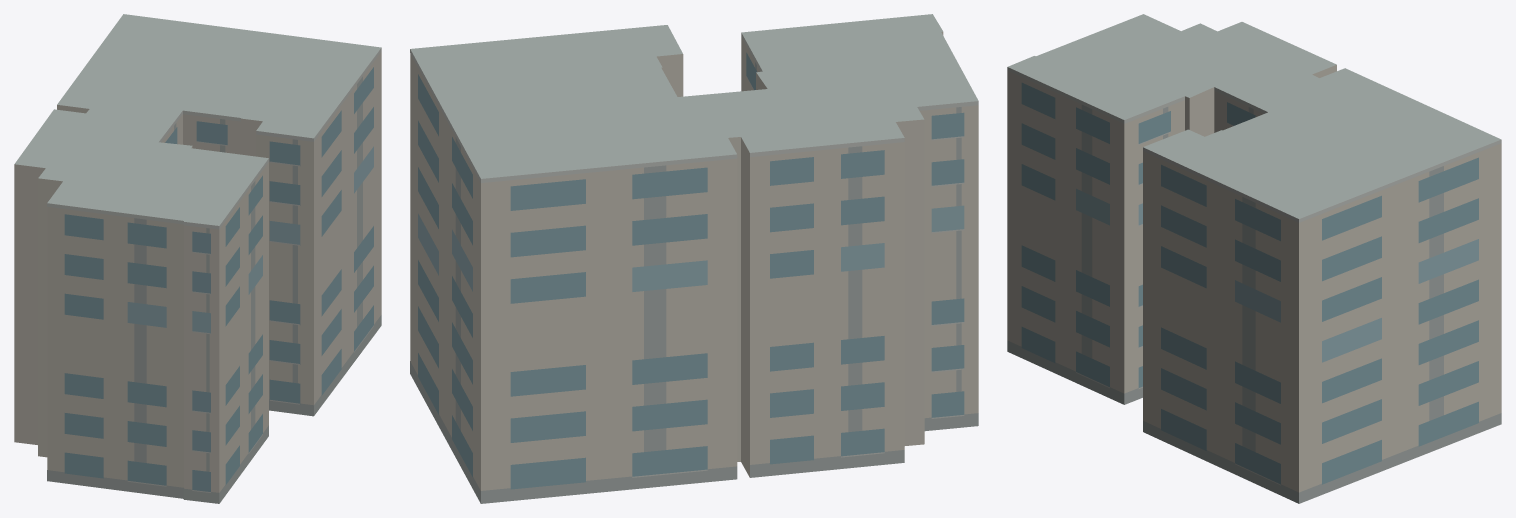
File: survey-upis-32832310.glb
The picture shows the model from 3 angles, left to right: view 1: azimuth 30°, elevation 25°; view 2: azimuth 150°, elevation 25°; view 3: azimuth 270°, elevation 25°; orthographic projection. The views are drawn at different scales.
Parts seen in each view (by area): view 1: survey-upis-32832310.tmp; view 2: survey-upis-32832310.tmp; view 3: survey-upis-32832310.tmp.
Boxes of the visible parts, left/top/right/bottom form: survey-upis-32832310.tmp: left=14, top=14, right=381, bottom=503; survey-upis-32832310.tmp: left=410, top=14, right=978, bottom=503; survey-upis-32832310.tmp: left=1007, top=14, right=1501, bottom=503.
Bounding box in the file's own units: 29.06 × 18.8 × 29.57.
